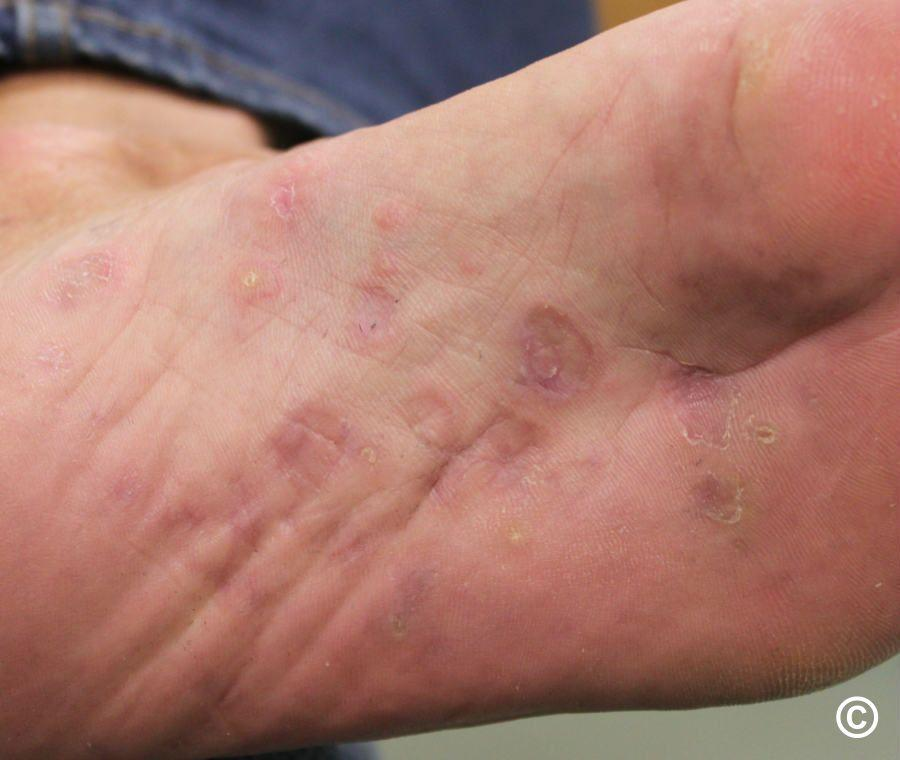annular lichen planus: (316, 204, 809, 547)
